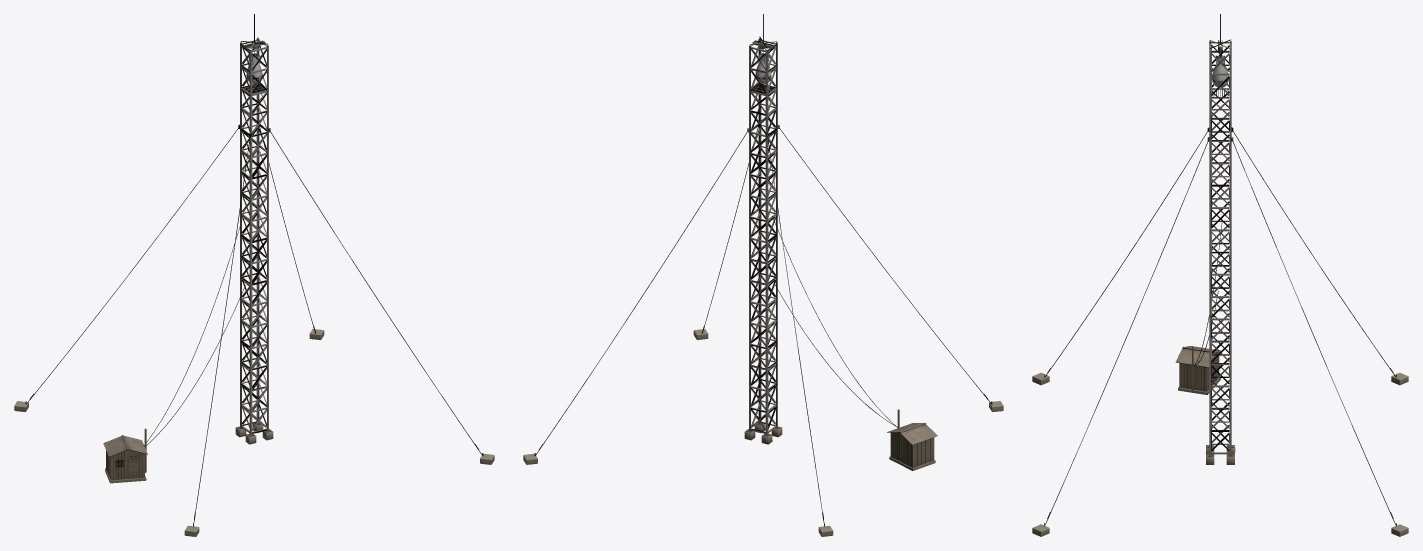
The model's file is shot_tower-low.glb.
The picture shows the model from 3 angles, left to right: view 1: azimuth 30°, elevation 25°; view 2: azimuth 150°, elevation 25°; view 3: azimuth 270°, elevation 25°; orthographic projection. The views are drawn at different scales.
Parts seen in each view (by area): view 1: shot_tower; view 2: shot_tower; view 3: shot_tower.
Part boxes in pixels (x1=…): shot_tower: x1=14, y1=14, x2=494, y2=536; shot_tower: x1=523, y1=14, x2=1003, y2=536; shot_tower: x1=1032, y1=14, x2=1408, y2=536.
Bounding box in the file's own units: 27.18 × 34.89 × 26.73.
4 materials, 4 textured.
